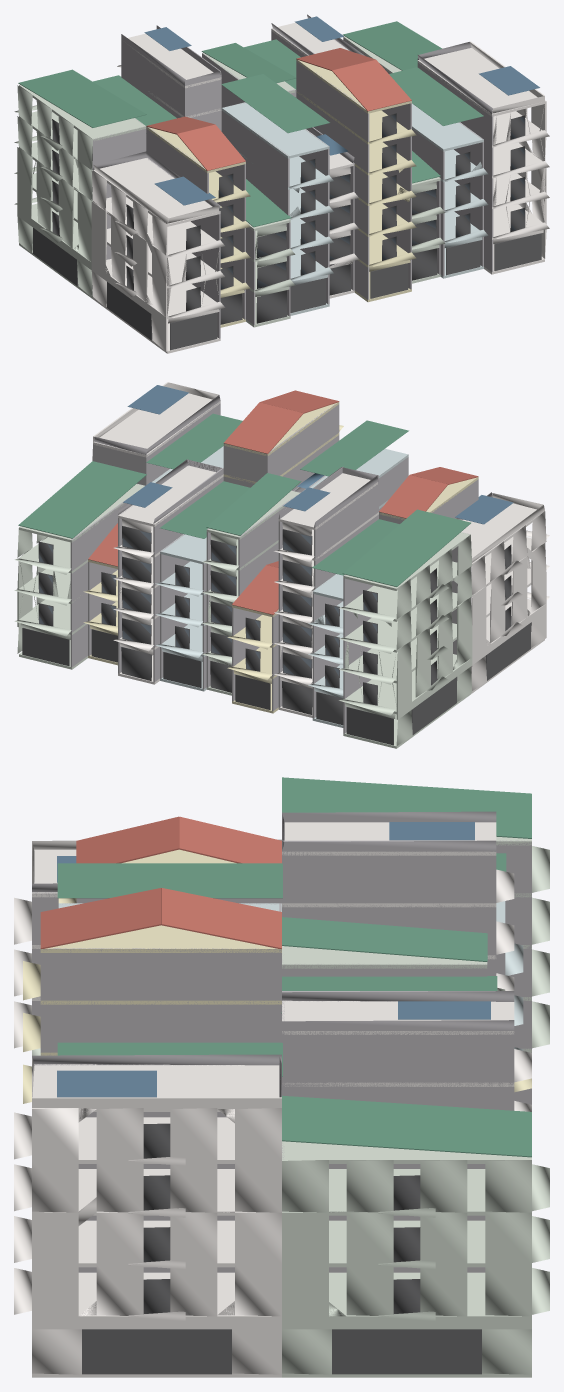
File: day-nha-ong-ha-noi.glb
3 views of the same model, one above another, from view 1: azimuth 30°, elevation 25°; view 2: azimuth 150°, elevation 25°; view 3: azimuth 270°, elevation 25° (orthographic). The views are drawn at different scales.
Parts seen in each view (by area): view 1: Merged_Facade_Blue_Mat_Facade_Blue_0; view 2: Merged_Facade_Blue_Mat_Facade_Blue_0; view 3: Merged_Facade_Blue_Mat_Facade_Blue_0.
Boxes of the visible parts, x1,y1,x2,y2 form: Merged_Facade_Blue_Mat_Facade_Blue_0: (14, 14, 549, 353); Merged_Facade_Blue_Mat_Facade_Blue_0: (14, 382, 549, 748); Merged_Facade_Blue_Mat_Facade_Blue_0: (14, 777, 549, 1377).
Size of the model in its own units: 1 by 0.5009 by 0.7026.
Materials: 1 (1 with a texture image).
